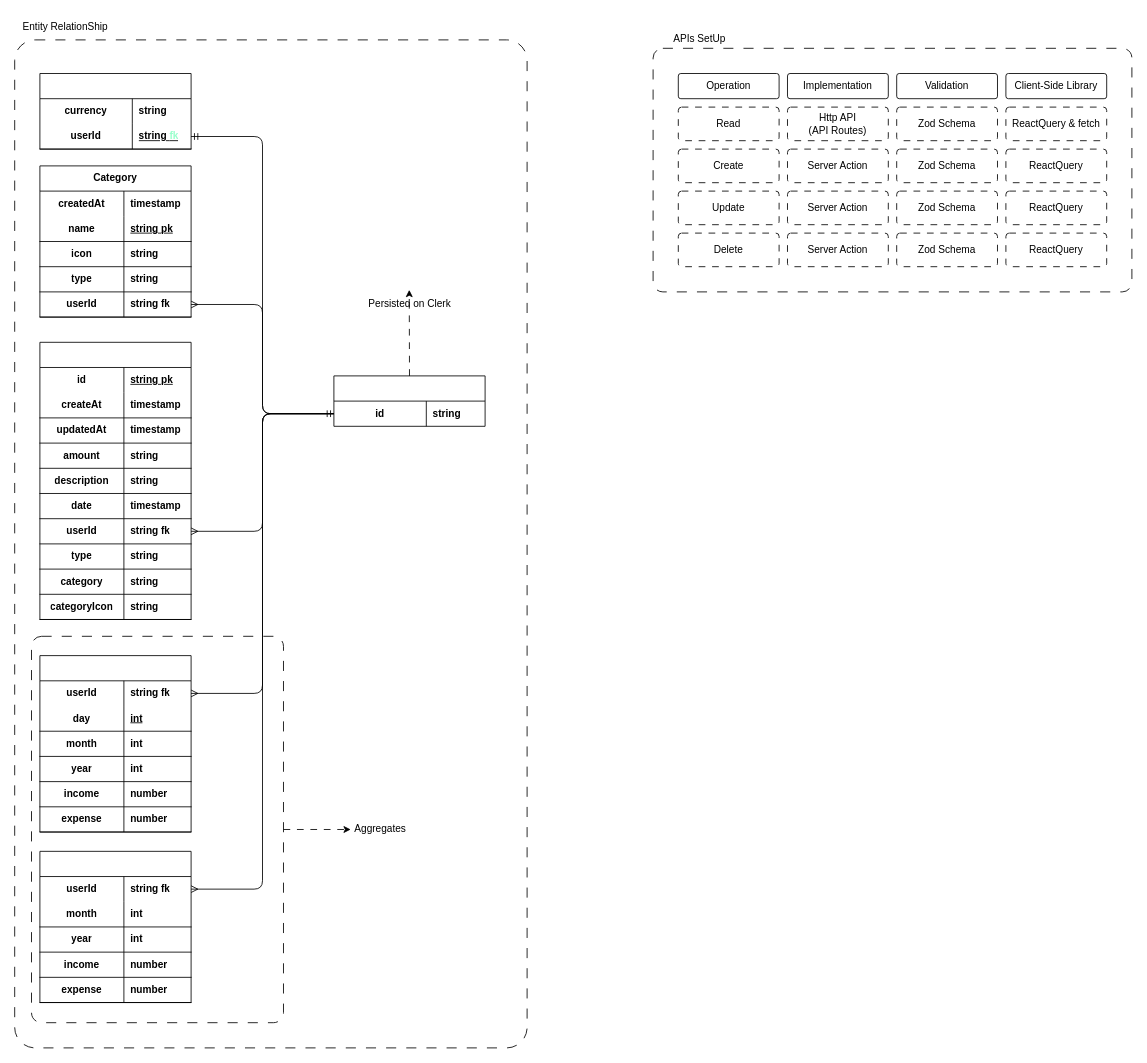
This 1147x1063 diagram has some shape labels left out. Here are the shapes that lost their labels. From the top down, the box of each, then its label:
(39, 73, 191, 149): UserSettings
(333, 375, 485, 426): User
(39, 341, 191, 620): Transaction
(39, 655, 191, 832): MonthHistory
(39, 850, 191, 1003): YearHistory
